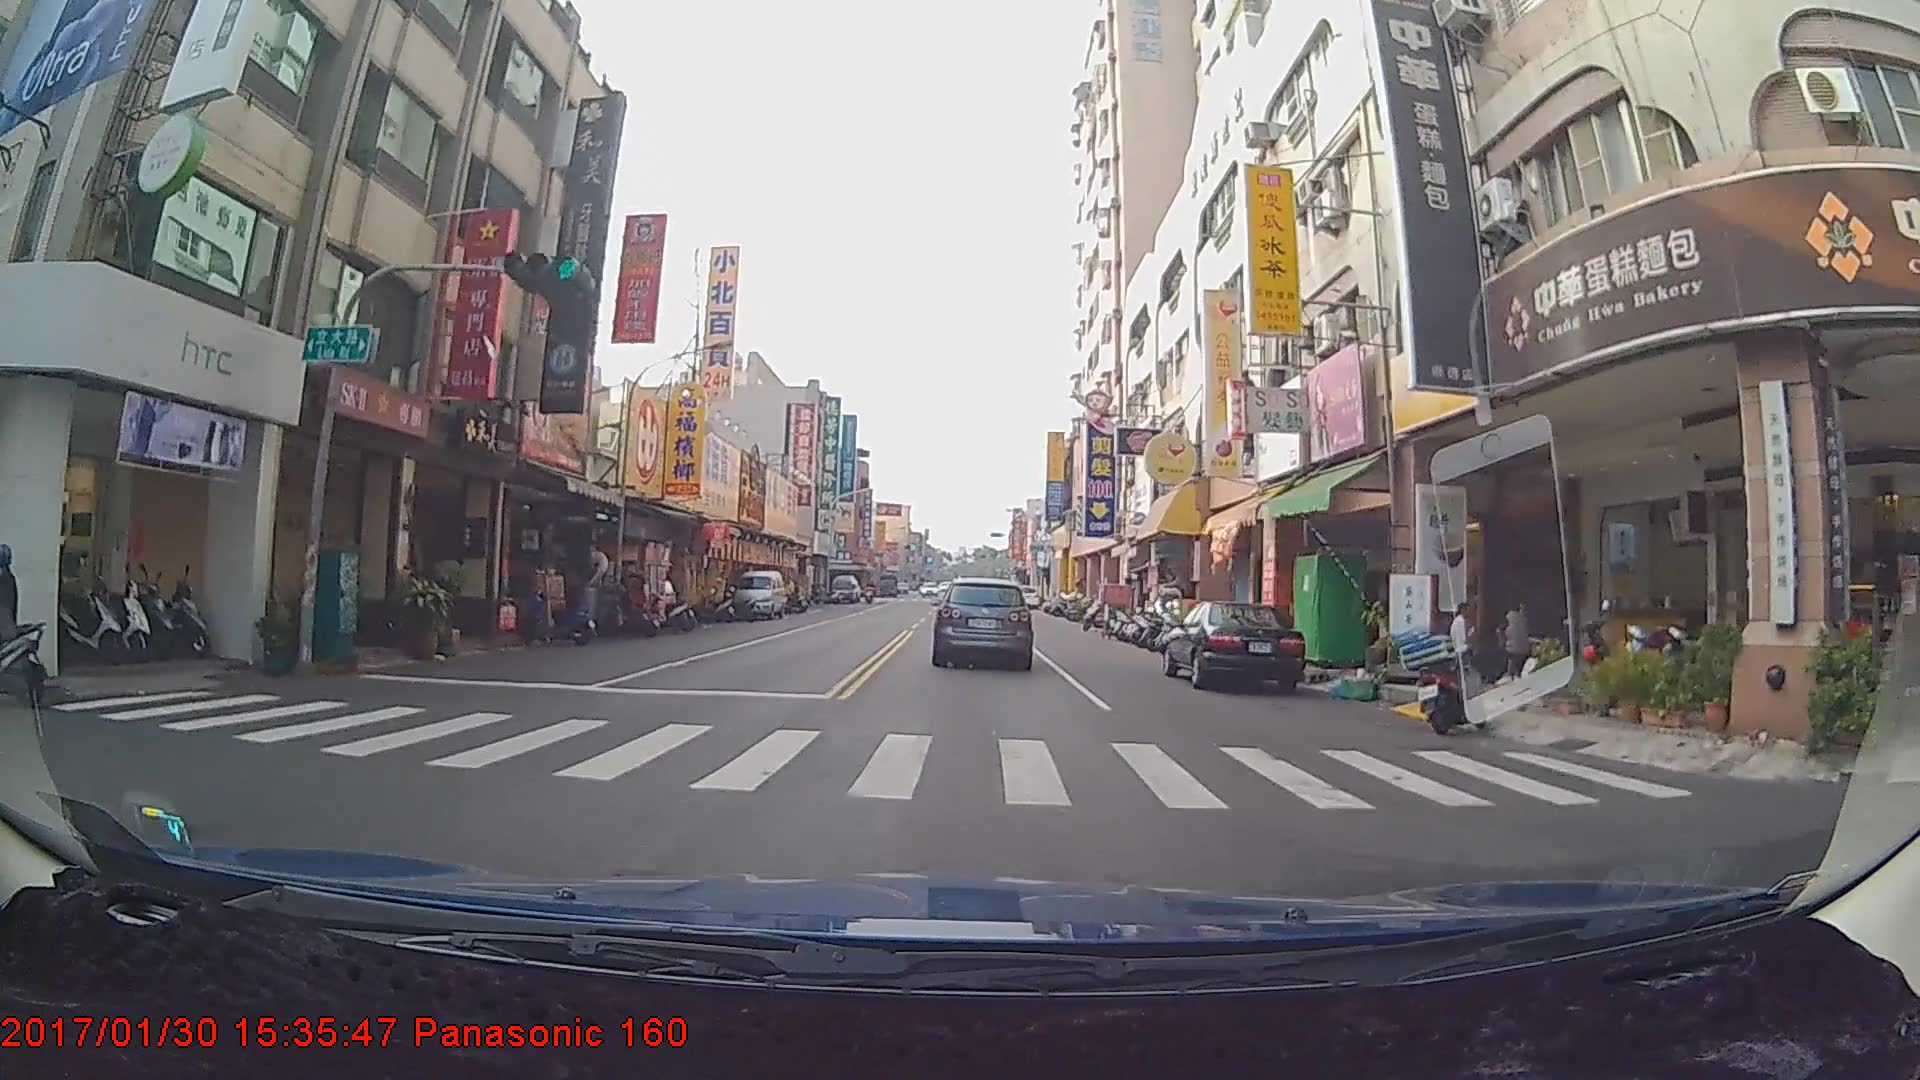pedestrian: (1492, 593, 1532, 685), (1447, 594, 1482, 682)
rider: (3, 549, 57, 702)
vehicle: (1167, 597, 1304, 692), (932, 577, 1032, 668), (729, 567, 784, 620), (830, 565, 861, 595), (1010, 583, 1037, 607)
